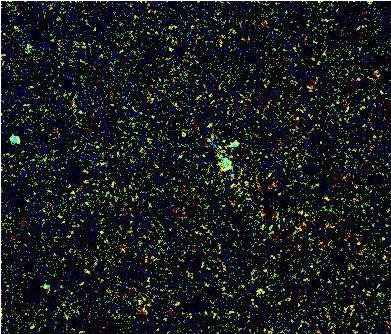star: (241, 275, 271, 305)
